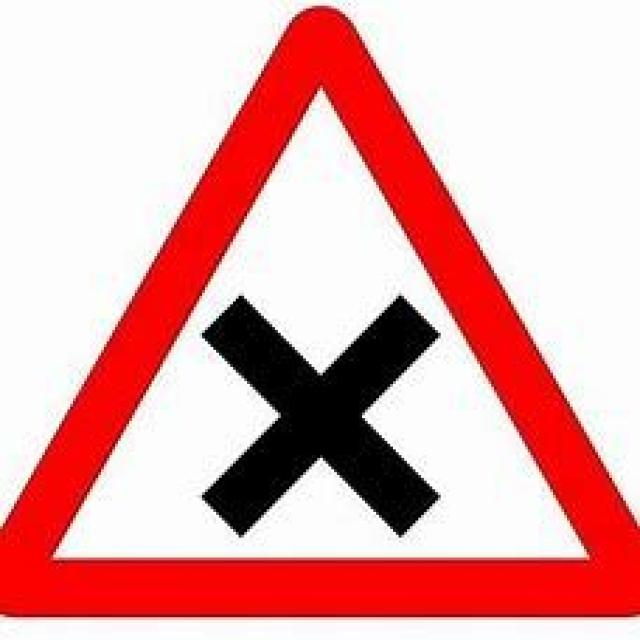CROSS_ROAD: (0, 8, 640, 620)
